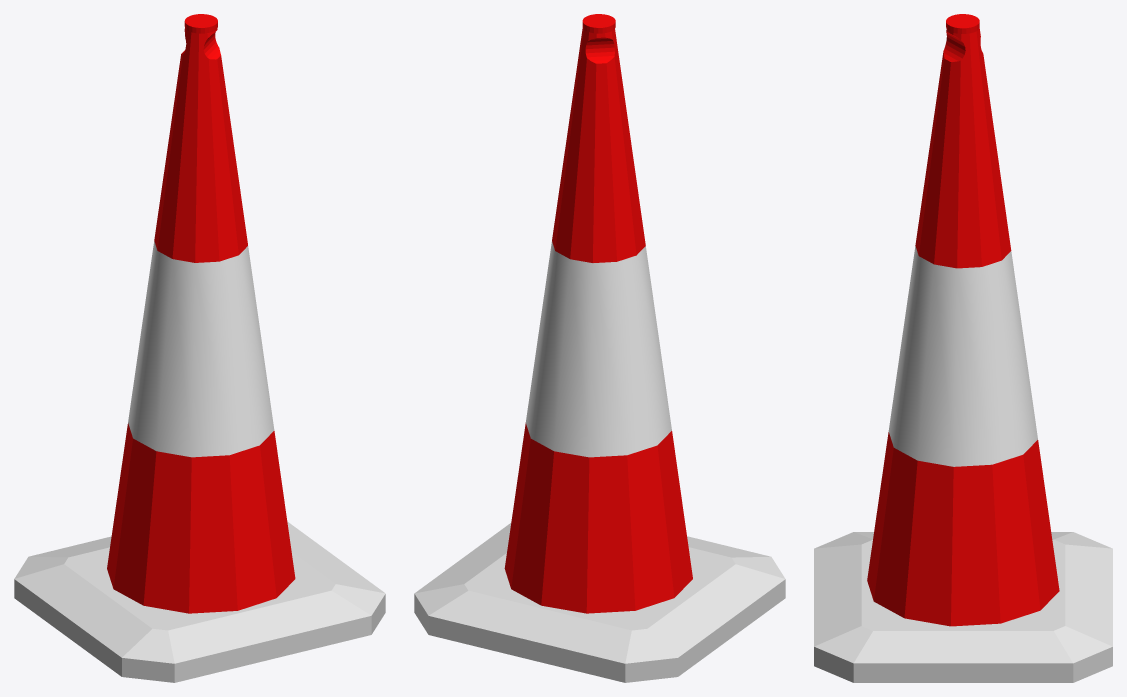
3 renders of one model, left to right at view 1: azimuth 30°, elevation 25°; view 2: azimuth 150°, elevation 25°; view 3: azimuth 270°, elevation 25°, orthographic. The views are drawn at different scales.
Visible parts, largest first — view 1: SIGNS, Box001, strip; view 2: SIGNS, Box001, strip; view 3: SIGNS, Box001, strip.
Part boxes in pixels (x1=…): SIGNS: x1=107, y1=14, x2=295, y2=613; Box001: x1=14, y1=521, x2=385, y2=682; strip: x1=128, y1=241, x2=274, y2=457; SIGNS: x1=504, y1=14, x2=692, y2=613; Box001: x1=414, y1=523, x2=785, y2=682; strip: x1=525, y1=241, x2=671, y2=457; SIGNS: x1=867, y1=14, x2=1059, y2=626; Box001: x1=814, y1=532, x2=1112, y2=682; strip: x1=888, y1=246, x2=1037, y2=466.
Bounding box in the file's own units: 47.91 × 101 × 46.01.
